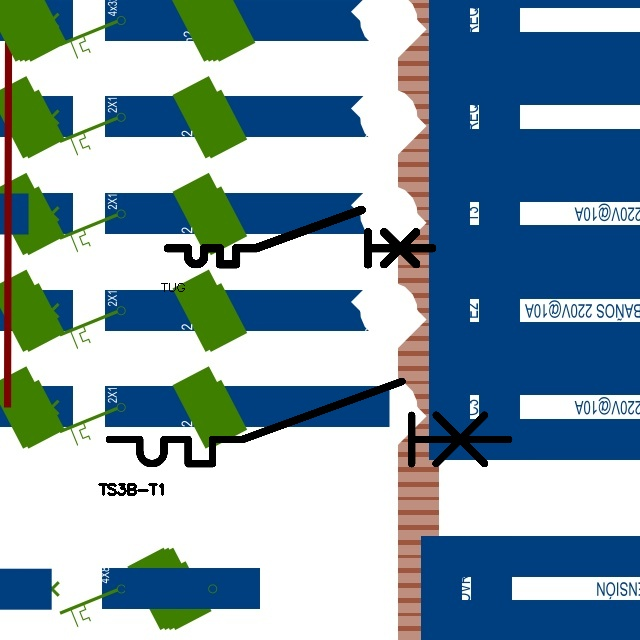interruptor_termomagnetico: (99, 371, 519, 474), (161, 203, 439, 271)
